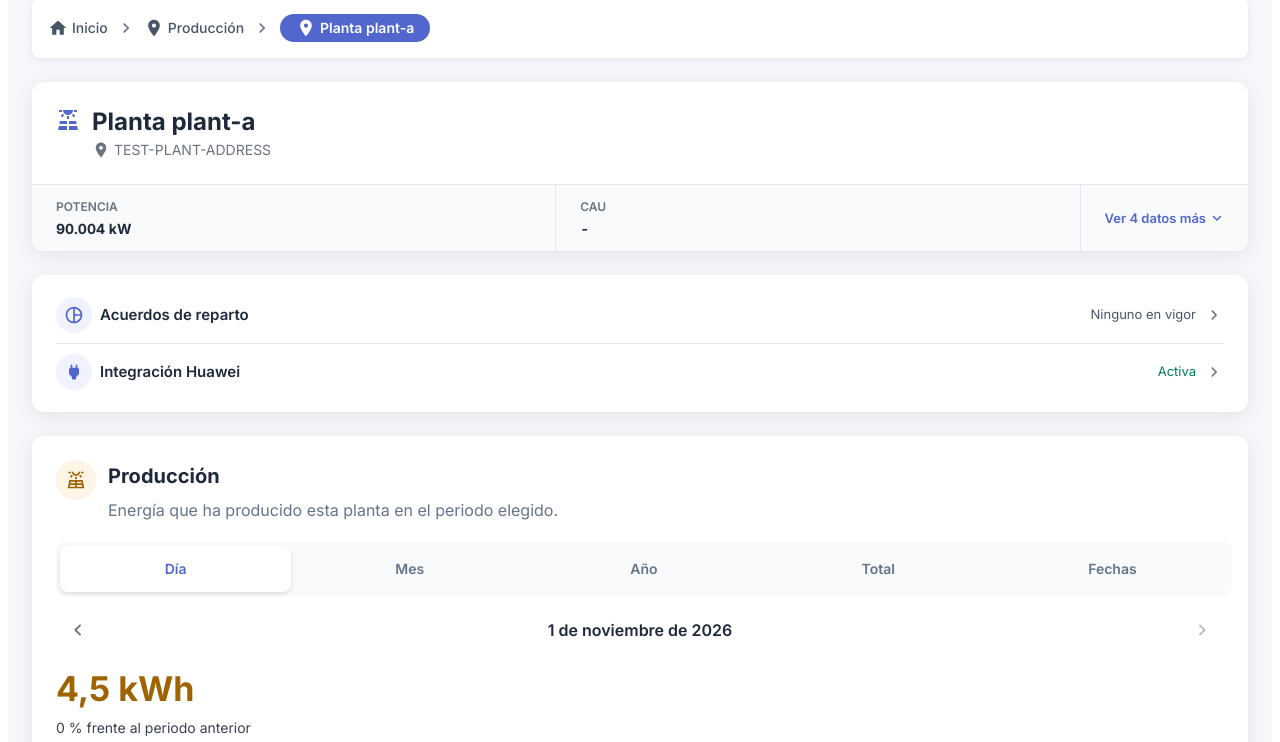
Test case: PlantDetailPage rules (#260) › the chart subtitle › UI-PLT-007 the Mes period is subtitled in Spanish as Producción por día
Click the button "Mes": {"x": 410, "y": 569} [294, 546, 525, 592]
(page scrolled)
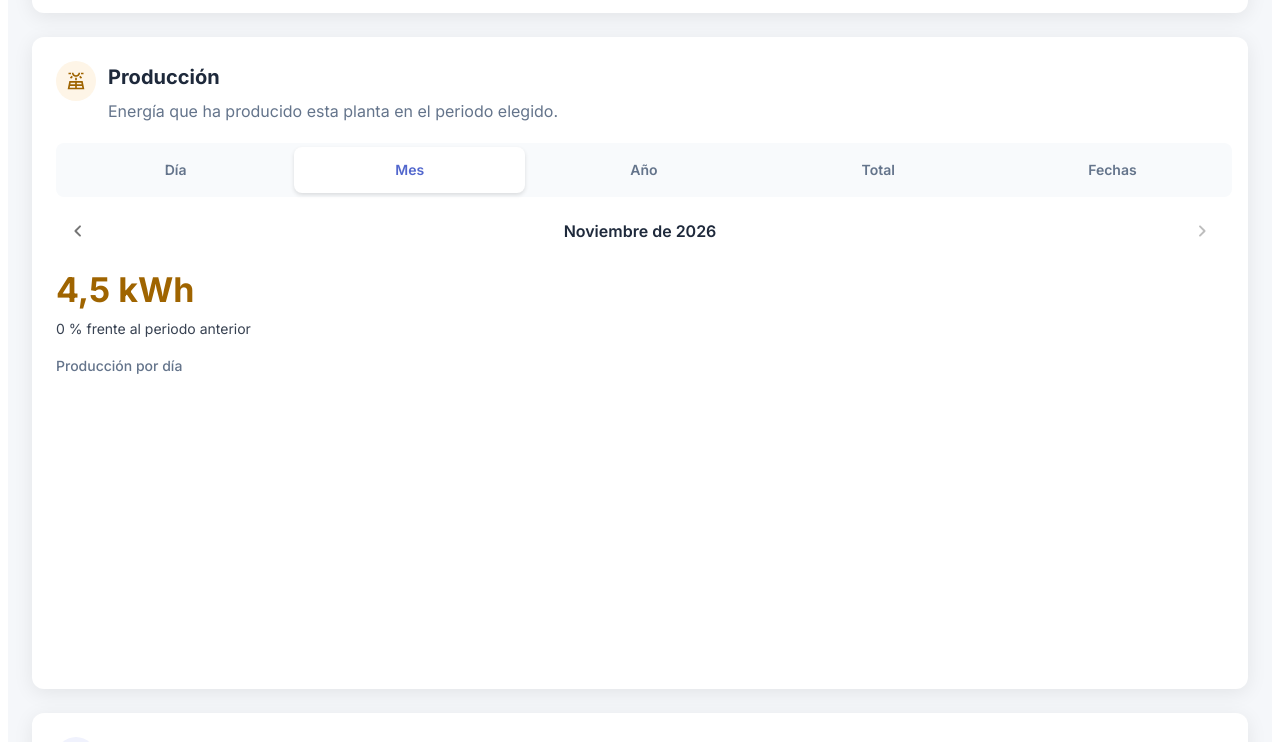
Expected: the heading "Producción por día" is shown, [56, 358, 182, 374]
